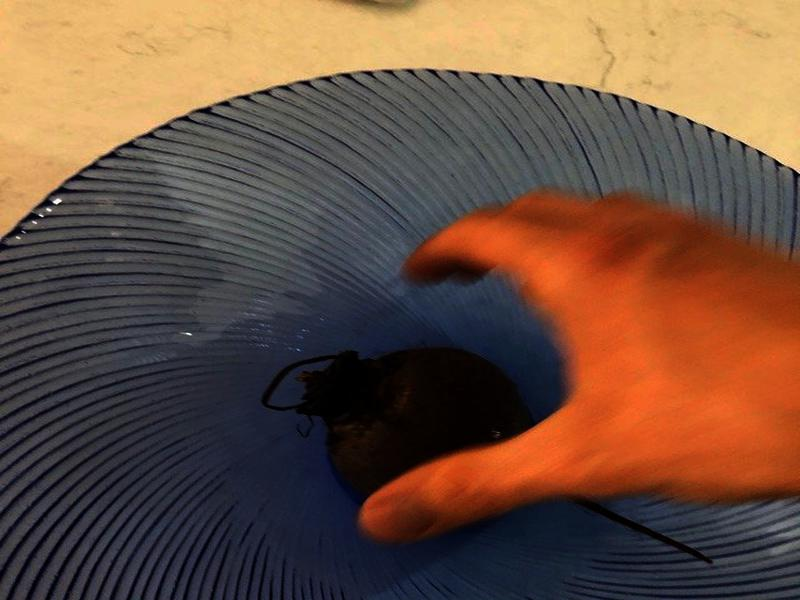Beet: (262, 346, 710, 562)
